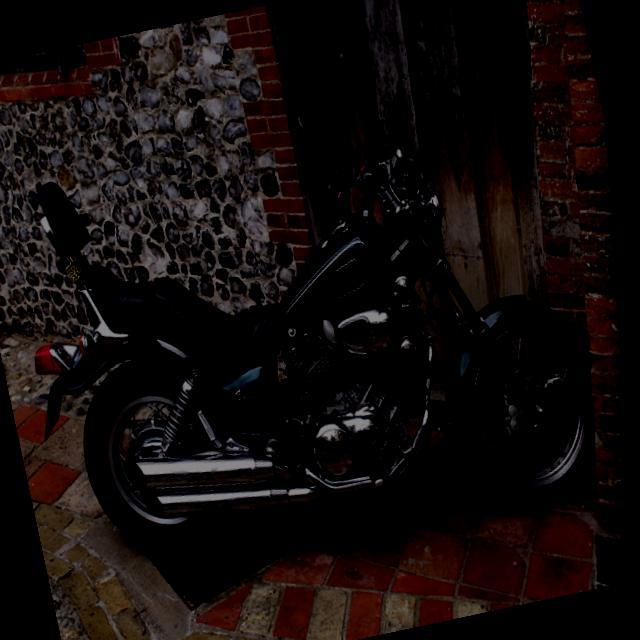Vehicle: (0, 4, 619, 609)
